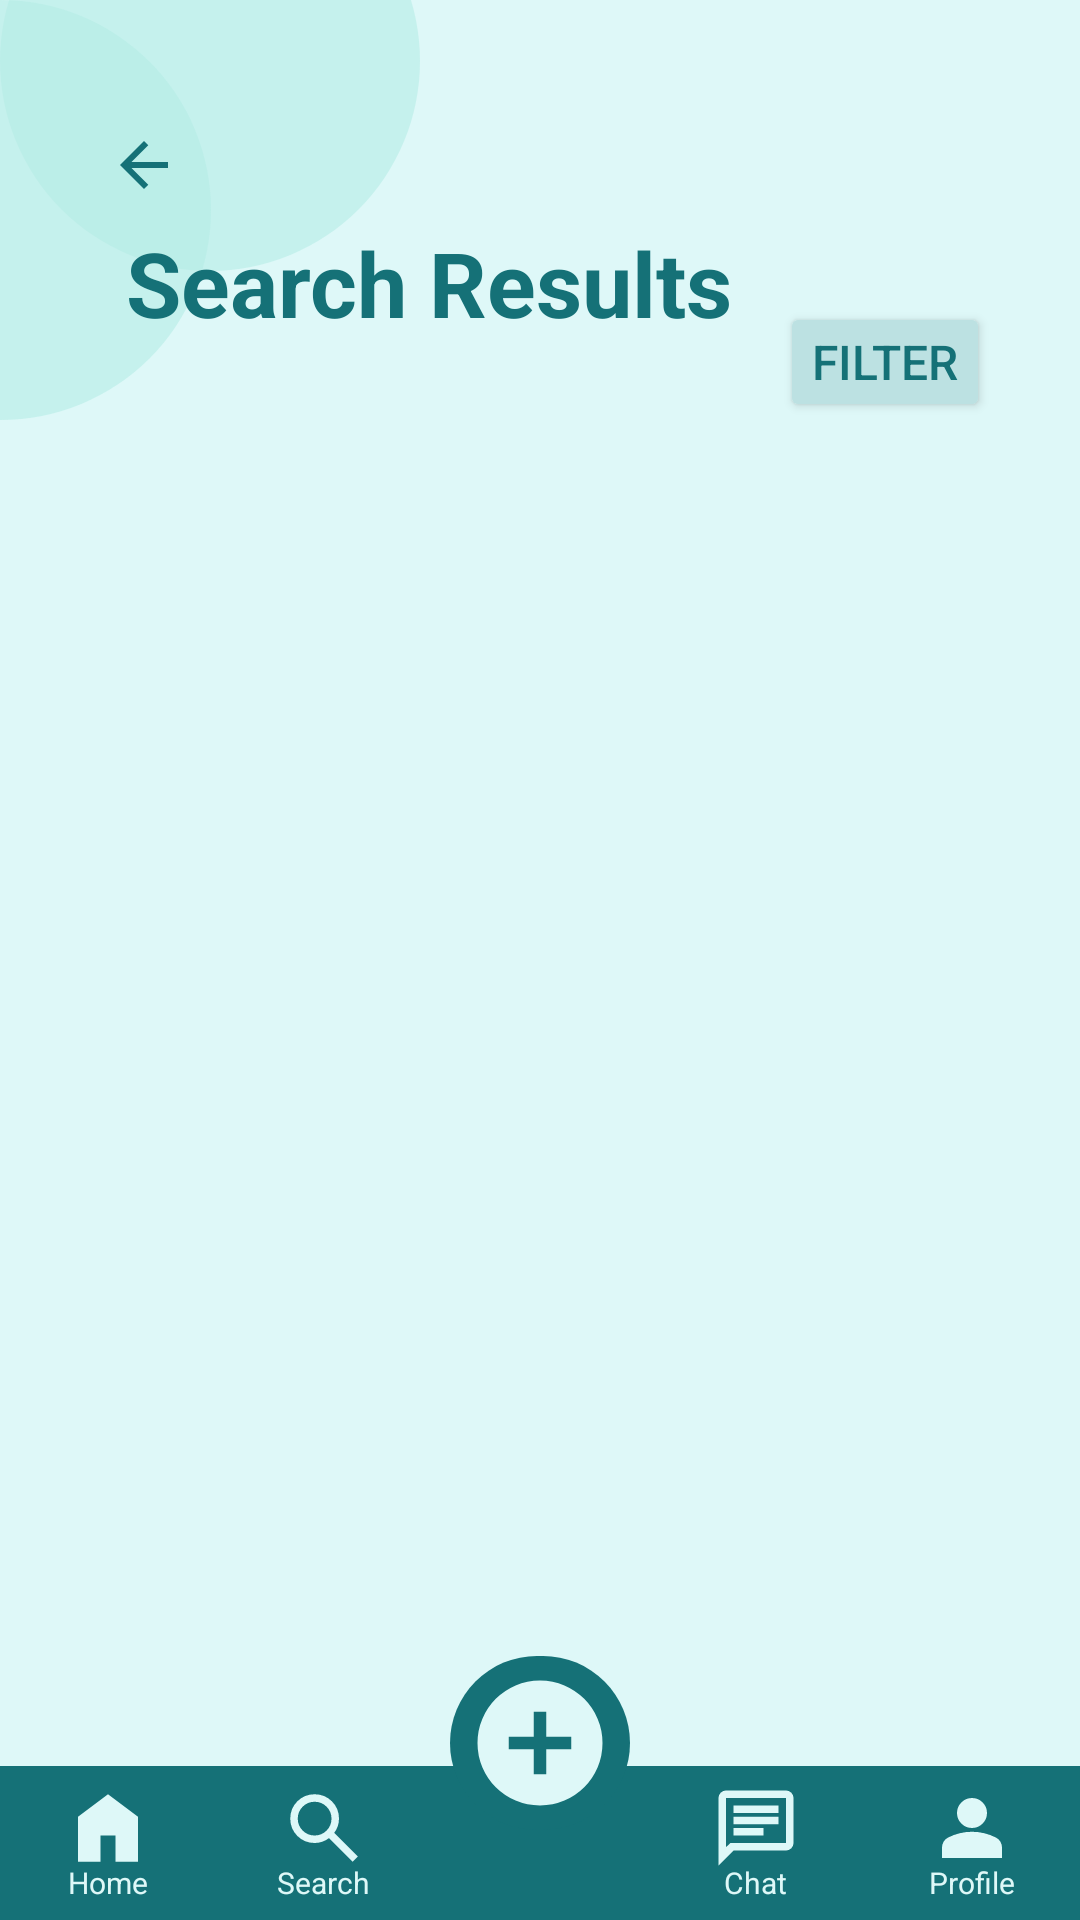

Named icons in this screenshot (1080 x 1920) and their centers, [x,y]:
back arrow: [144,165]
